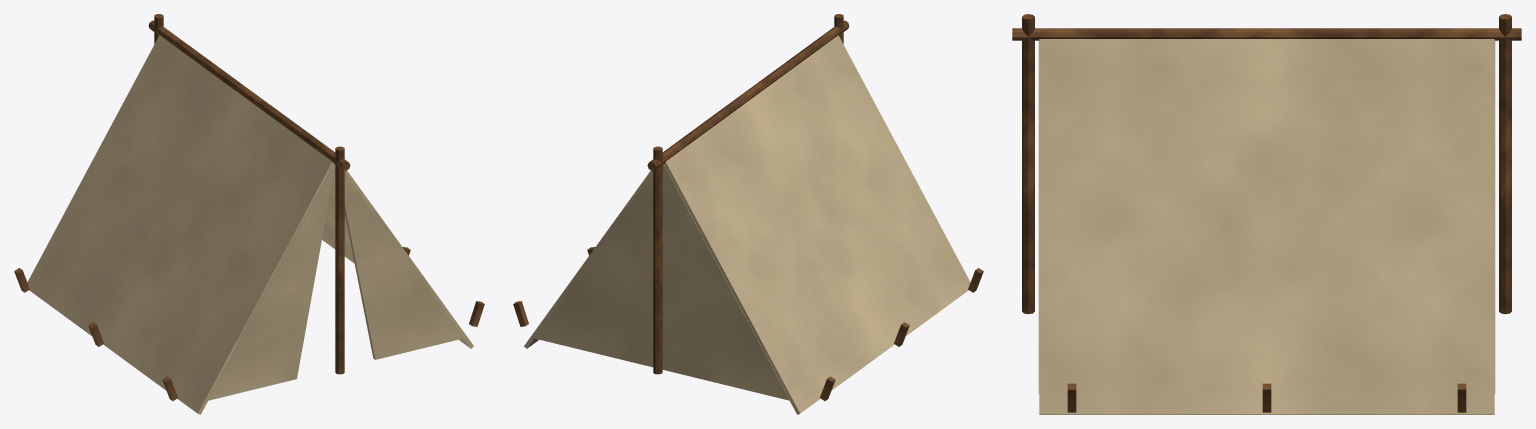
The model's file is Tent.gltf.
The picture shows the model from 3 angles, left to right: view 1: azimuth 30°, elevation 25°; view 2: azimuth 150°, elevation 25°; view 3: azimuth 270°, elevation 25°; orthographic projection. The views are drawn at different scales.
Parts seen in each view (by area): view 1: Tent; view 2: Tent; view 3: Tent.
Part boxes in pixels (x1=…): Tent: x1=14, y1=14, x2=484, y2=414; Tent: x1=513, y1=14, x2=983, y2=414; Tent: x1=1012, y1=14, x2=1521, y2=414.
Bounding box in the file's own units: 4.48 × 3.17 × 4.7.
Materials: 2 (2 with a texture image).
